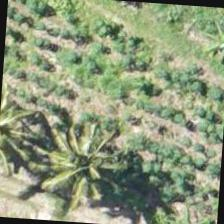Kelapa_Sawit: (41, 119, 137, 216)
